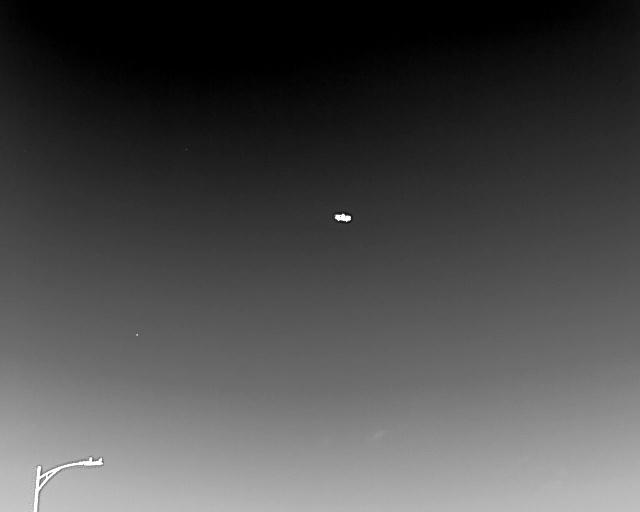fpv-drone: (333, 212, 352, 223)
